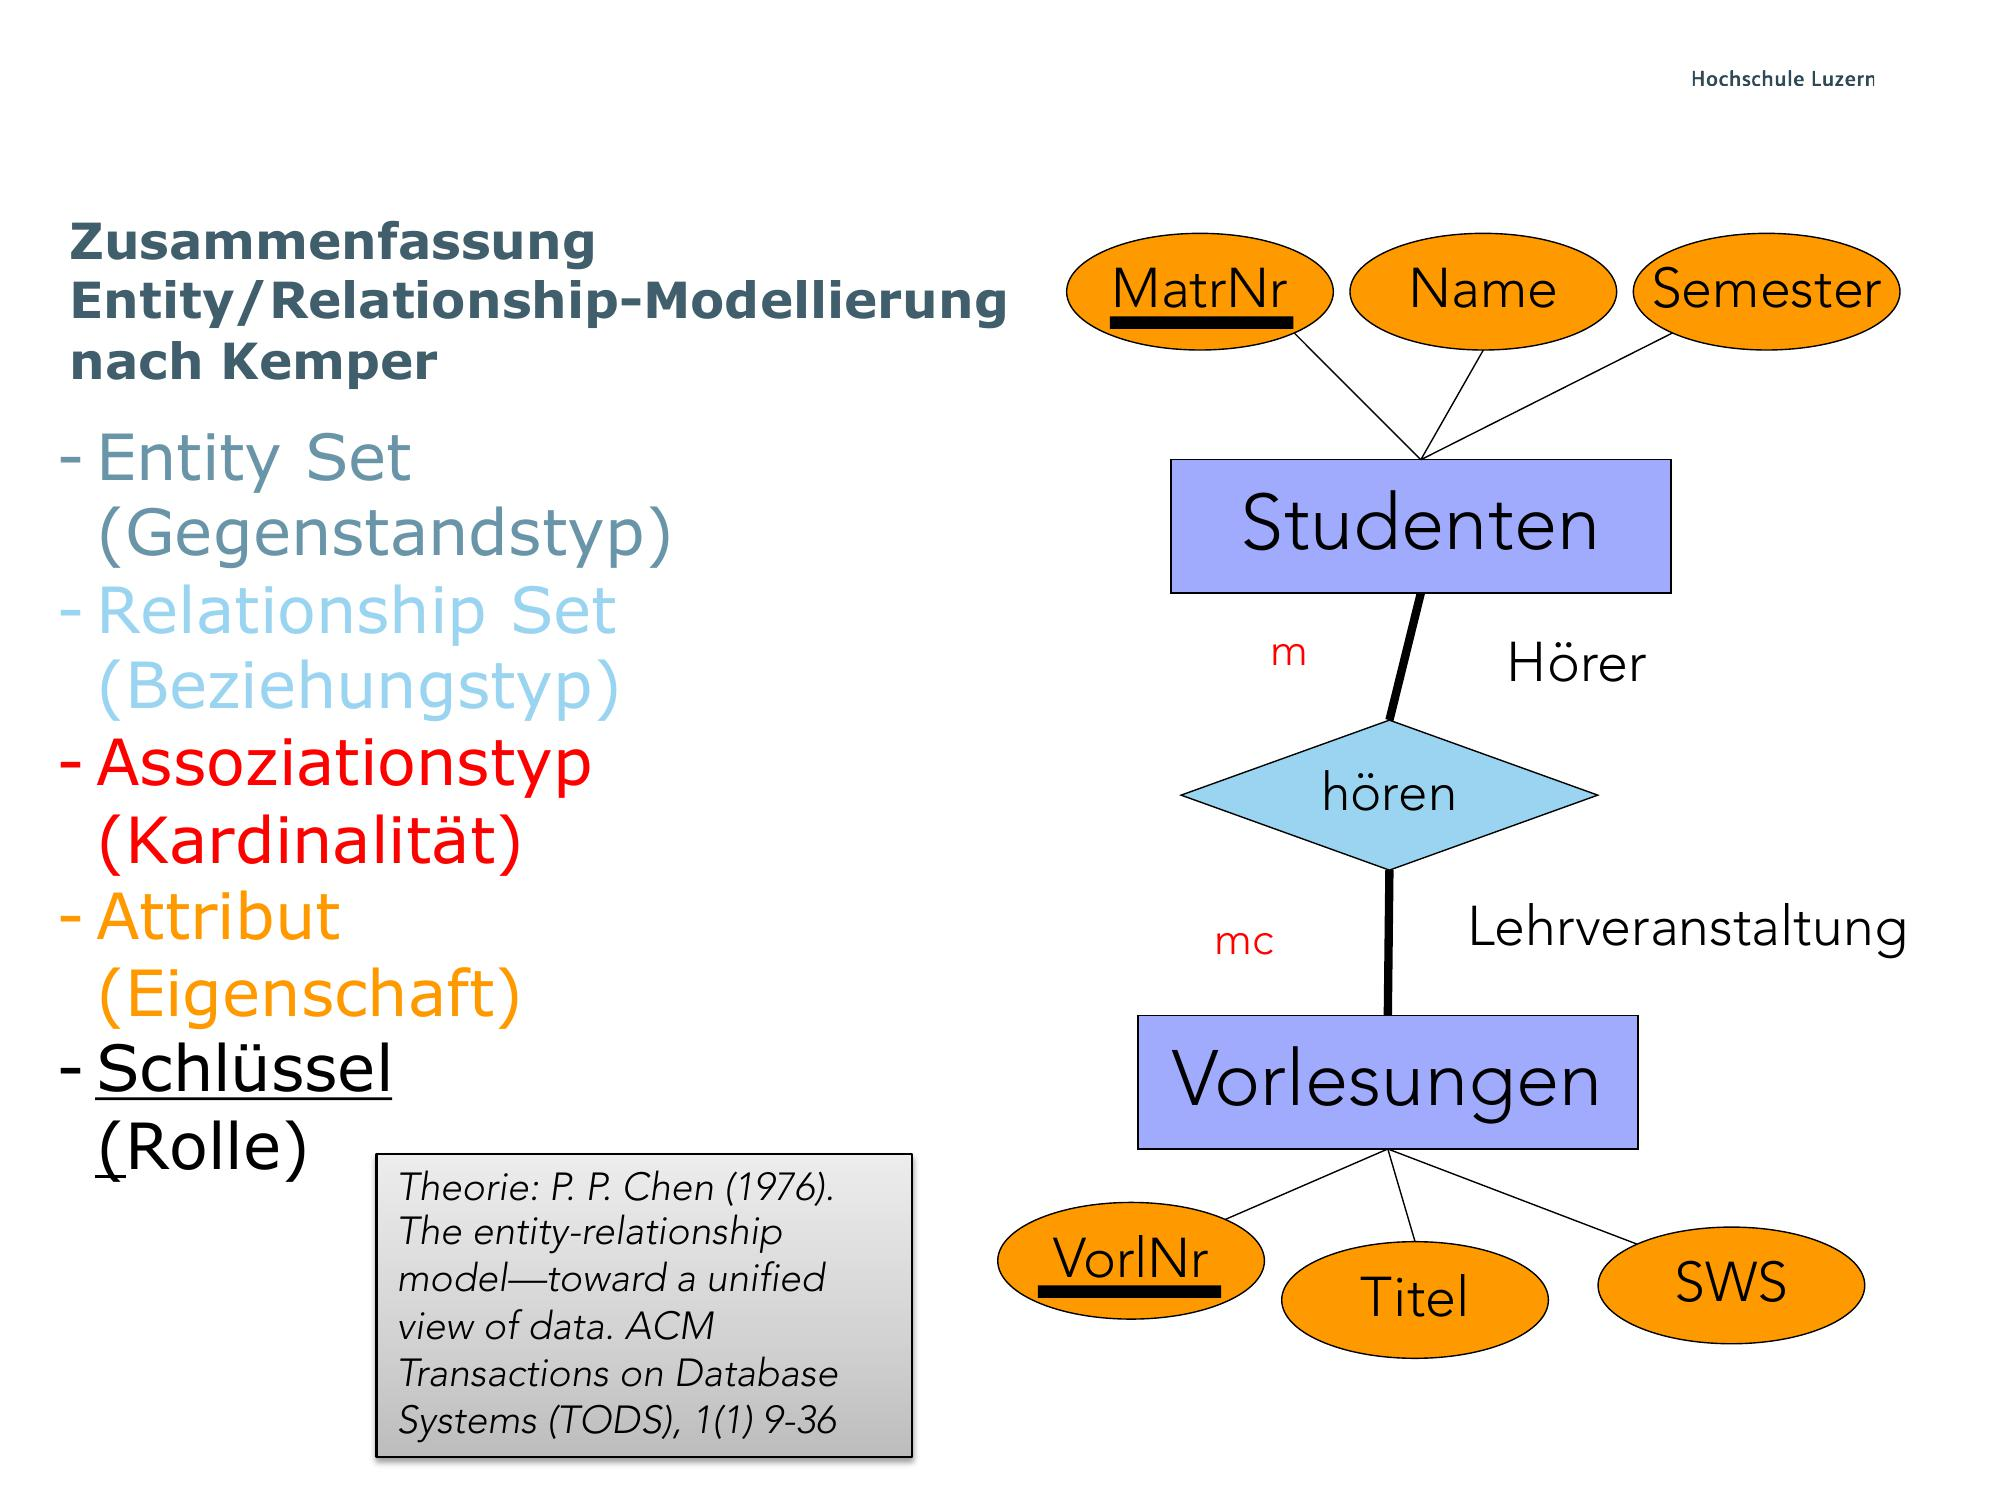Title: (57, 203, 1024, 400)
